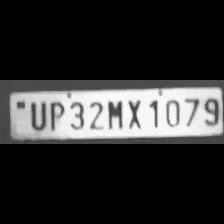0: (161, 96, 181, 128)
1: (144, 97, 162, 128)
2: (86, 98, 104, 130)
3: (65, 98, 84, 130)
7: (181, 95, 199, 127)
9: (200, 96, 220, 127)
M: (104, 97, 124, 130)
P: (46, 99, 64, 131)
U: (26, 99, 46, 130)
X: (124, 97, 144, 129)
